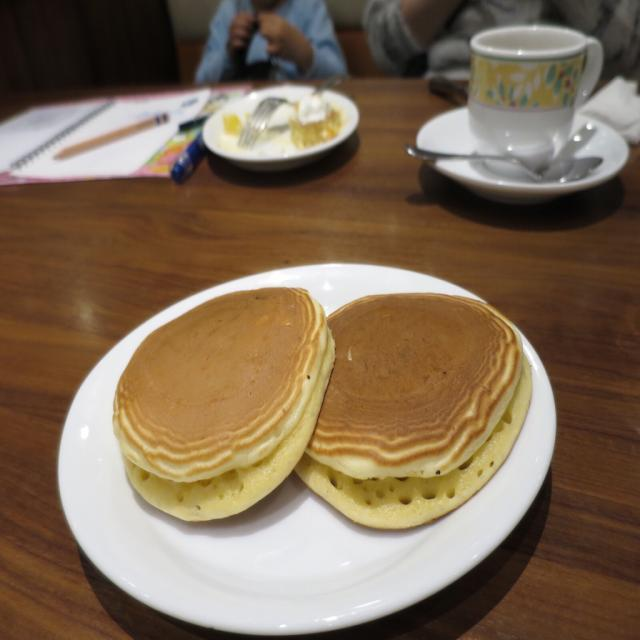Pancake: (109, 286, 337, 520), (304, 295, 524, 477)
